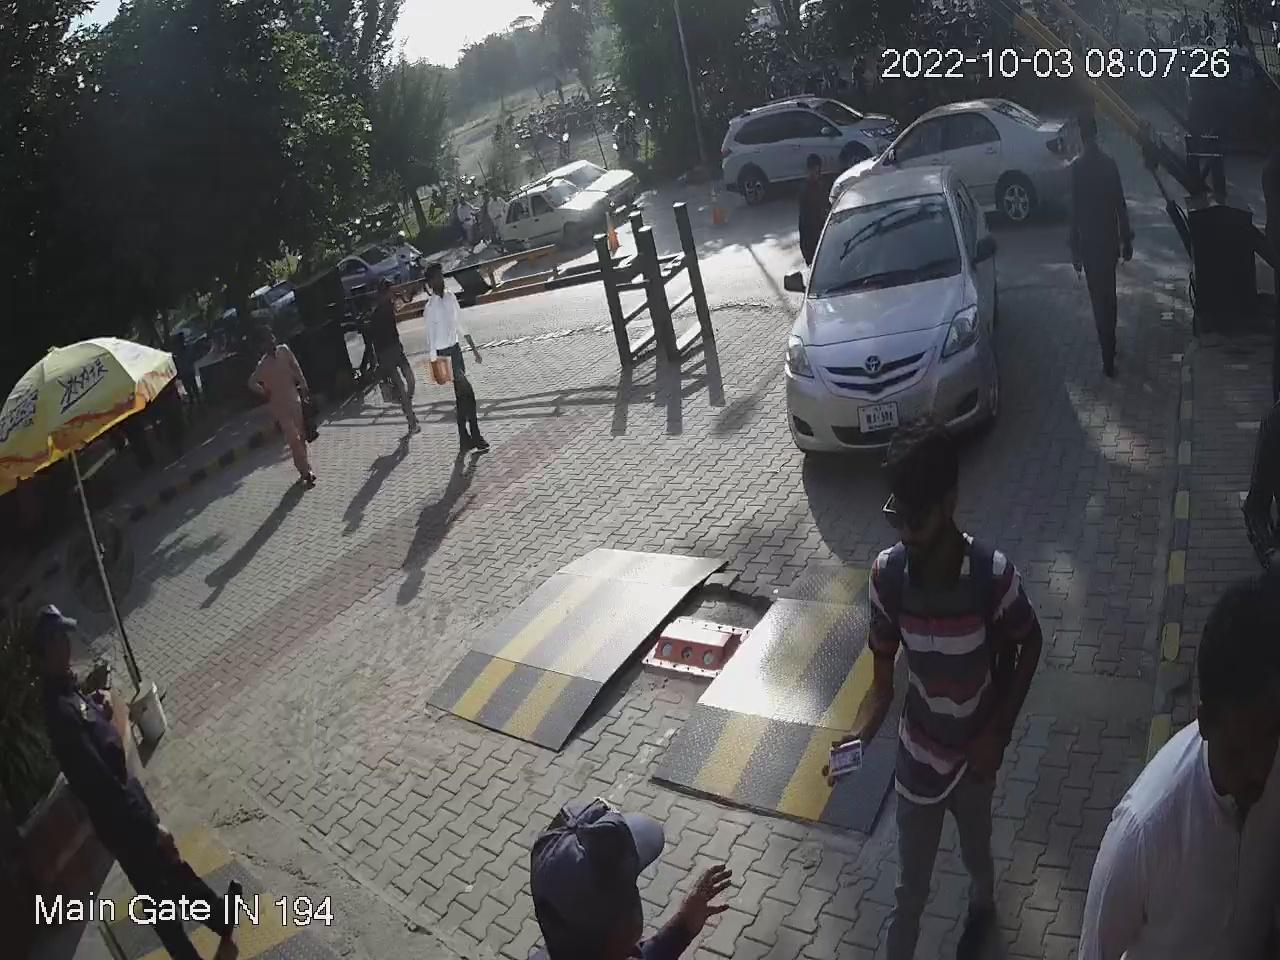windshield: (800, 185, 963, 295)
